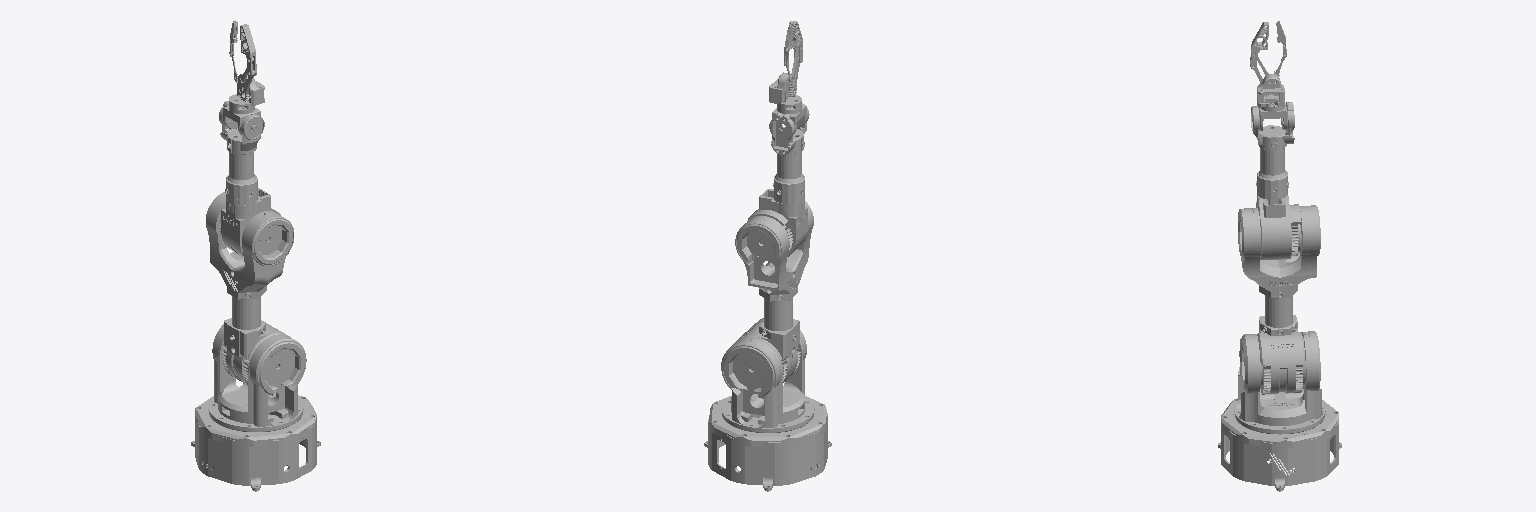
robot.urdf — kauda:
<?xml version="1.0" ?>
<!-- =================================================================================== -->
<!-- |    This document was autogenerated by xacro from [local-path]/marsrws/src/kauda/urdf/kauda.xacro | -->
<!-- |    EDITING THIS FILE BY HAND IS NOT RECOMMENDED                                 | -->
<!-- =================================================================================== -->
<robot name="kauda">
    <link name="world" />
    <link name="base_link" />
    <joint name="world_joint" type="fixed">
        <parent link="world" />
        <child link="base_link" />
        <dynamics damping="10.0" friction="1.0" />
    </joint>
    <link name="base_footprint">
        <inertial>
            <origin rpy="0 0 0" xyz="-0.00530925790576836 -3.94116071453926E-06 -0.018307245361305" />
            <mass value="0.377109058292487" />
            <inertia ixx="0.00107088440434545" ixy="1.10905798168356E-07" ixz="1.14163831904201E-05" iyy="0.00116271156830369" iyz="-9.05276896773614E-08" izz="0.00201984908828289" />
        </inertial>
        <visual>
            <origin rpy="0 0 0" xyz="0 0 0" />
            <geometry>
                <mesh filename="package://kauda/meshes/base_footprint.STL" />
            </geometry>
            <material name="">
                <color rgba="0.752941176470588 0.752941176470588 0.752941176470588 1" />
            </material>
        </visual>
        <collision>
            <origin rpy="0 0 0" xyz="0 0 0" />
            <geometry>
                <mesh filename="package://kauda/meshes/base_footprint.STL" />
            </geometry>
        </collision>
    </link>
    <joint name="base_joint" type="fixed">
        <parent link="base_link" />
        <child link="base_footprint" />
        <dynamics damping="10.0" friction="1.0" />
    </joint>
    <link name="link1">
        <inertial>
            <origin rpy="0 0 0" xyz="0.00229721462998489 -0.000230609851214751 0.0482498832031781" />
            <mass value="0.470486507419155" />
            <inertia ixx="0.00109023137916716" ixy="1.48462873070982E-05" ixz="-3.51550938929572E-05" iyy="0.000963399988424884" iyz="5.36500924620431E-06" izz="0.000851399422239088" />
        </inertial>
        <visual>
            <origin rpy="0 0 0" xyz="0 0 0" />
            <geometry>
                <mesh filename="package://kauda/meshes/link1.STL" />
            </geometry>
            <material name="">
                <color rgba="0.752941176470588 0.752941176470588 0.752941176470588 1" />
            </material>
        </visual>
        <collision>
            <origin rpy="0 0 0" xyz="0 0 0" />
            <geometry>
                <mesh filename="package://kauda/meshes/link1.STL" />
            </geometry>
        </collision>
    </link>
    <joint name="joint1" type="revolute">
        <origin rpy="0 0 0" xyz="0 0 0" />
        <parent link="base_footprint" />
        <child link="link1" />
        <axis xyz="0 0 -1" />
        <limit effort="0" lower="-1.5708" upper="1.5708" velocity="0" />
    </joint>
    <link name="link2">
        <inertial>
            <origin rpy="0 0 0" xyz="-0.010018047532452 -0.0032833462210182 0.0861794590904751" />
            <mass value="0.597764887805913" />
            <inertia ixx="0.000811203102330621" ixy="3.84670753886074E-06" ixz="-2.39198660268358E-06" iyy="0.000739547758043914" iyz="-7.87293376002064E-06" izz="0.000616552622984094" />
        </inertial>
        <visual>
            <origin rpy="0 0 0" xyz="0 0 0" />
            <geometry>
                <mesh filename="package://kauda/meshes/link2.STL" />
            </geometry>
            <material name="">
                <color rgba="0.752941176470588 0.752941176470588 0.752941176470588 1" />
            </material>
        </visual>
        <collision>
            <origin rpy="0 0 0" xyz="0 0 0" />
            <geometry>
                <mesh filename="package://kauda/meshes/link2.STL" />
            </geometry>
        </collision>
    </link>
    <joint name="joint2" type="revolute">
        <origin rpy="0 0 0" xyz="0.0059659 0.00063891 0.08615" />
        <parent link="link1" />
        <child link="link2" />
        <axis xyz="-0.10648 0.99431 0" />
        <limit effort="0" lower="-1.5708" upper="1.5708" velocity="0" />
    </joint>
    <link name="link3">
        <inertial>
            <origin rpy="0 0 0" xyz="-0.0169011018631835 0.0380839207520736 0.0116356442109422" />
            <mass value="0.268857504457809" />
            <inertia ixx="0.000197411173994711" ixy="-5.06366609444836E-06" ixz="1.24082418327179E-05" iyy="0.000232360787237225" iyz="-2.627629940429E-07" izz="0.0001779803445574" />
        </inertial>
        <visual>
            <origin rpy="0 0 0" xyz="0 0 0" />
            <geometry>
                <mesh filename="package://kauda/meshes/link3.STL" />
            </geometry>
            <material name="">
                <color rgba="0.752941176470588 0.752941176470588 0.752941176470588 1" />
            </material>
        </visual>
        <collision>
            <origin rpy="0 0 0" xyz="0 0 0" />
            <geometry>
                <mesh filename="package://kauda/meshes/link3.STL" />
            </geometry>
        </collision>
    </link>
    <joint name="joint3" type="revolute">
        <origin rpy="0 0 0" xyz="-0.0014911 -0.042422 0.19664" />
        <parent link="link2" />
        <child link="link3" />
        <axis xyz="-0.10648 0.99431 0" />
        <limit effort="0" lower="-1.5708" upper="1.5708" velocity="0" />
    </joint>
    <link name="link4">
        <inertial>
            <origin rpy="0 0 0" xyz="0.000127731718039426 -0.000925010788561428 0.0895037641109863" />
            <mass value="0.0365664078243449" />
            <inertia ixx="2.72405728800808E-05" ixy="9.0441219157387E-07" ixz="-8.85652493454715E-08" iyy="1.88817780992797E-05" iyz="8.92970457314301E-07" izz="1.79057599567989E-05" />
        </inertial>
        <visual>
            <origin rpy="0 0 0" xyz="0 0 0" />
            <geometry>
                <mesh filename="package://kauda/meshes/link4.STL" />
            </geometry>
            <material name="">
                <color rgba="0.752941176470588 0.752941176470588 0.752941176470588 1" />
            </material>
        </visual>
        <collision>
            <origin rpy="0 0 0" xyz="0 0 0" />
            <geometry>
                <mesh filename="package://kauda/meshes/link4.STL" />
            </geometry>
        </collision>
    </link>
    <joint name="joint4" type="revolute">
        <origin rpy="0 0 0" xyz="-0.033191 0.031215 0.05663" />
        <parent link="link3" />
        <child link="link4" />
        <axis xyz="0 0 1" />
        <limit effort="0" lower="-1.5708" upper="1.5708" velocity="0" />
    </joint>
    <link name="link5">
        <inertial>
            <origin rpy="0 0 0" xyz="-0.00237290651034774 0.0221320248227368 0.00766620022500086" />
            <mass value="0.0249727462641256" />
            <inertia ixx="6.86232658161813E-06" ixy="2.09116249750625E-07" ixz="-1.55862695274545E-08" iyy="4.92498141280146E-06" iyz="1.4679899460208E-07" izz="7.19810856236306E-06" />
        </inertial>
        <visual>
            <origin rpy="0 0 0" xyz="0 0 0" />
            <geometry>
                <mesh filename="package://kauda/meshes/link5.STL" />
            </geometry>
            <material name="">
                <color rgba="0.752941176470588 0.752941176470588 0.752941176470588 1" />
            </material>
        </visual>
        <collision>
            <origin rpy="0 0 0" xyz="0 0 0" />
            <geometry>
                <mesh filename="package://kauda/meshes/link5.STL" />
            </geometry>
        </collision>
    </link>
    <joint name="joint5" type="revolute">
        <origin rpy="0 0 0" xyz="0.0023959 -0.022372 0.1184" />
        <parent link="link4" />
        <child link="link5" />
        <axis xyz="-0.10648 0.99431 0" />
        <limit effort="0" lower="-1.5708" upper="1.5708" velocity="0" />
    </joint>
    <link name="end_effector">
        <inertial>
            <origin rpy="0 0 0" xyz="-0.0734713584909865 -0.00431769797661067 -0.00391571033132621" />
            <mass value="0.0303740016851369" />
            <inertia ixx="4.96476260358216E-06" ixy="-2.13950973868504E-07" ixz="1.15712582705699E-07" iyy="4.59166886150046E-06" iyz="-1.8601356748186E-07" izz="6.06172170169276E-06" />
        </inertial>
        <visual>
            <origin rpy="0 0 0" xyz="0 0 0" />
            <geometry>
                <mesh filename="package://kauda/meshes/end_effector.STL" />
            </geometry>
            <material name="">
                <color rgba="0.752941176470588 0.752941176470588 0.752941176470588 1" />
            </material>
        </visual>
        <collision>
            <origin rpy="0 0 0" xyz="0 0 0" />
            <geometry>
                <mesh filename="package://kauda/meshes/end_effector.STL" />
            </geometry>
        </collision>
    </link>
    <joint name="end_effector_joint" type="fixed">
        <origin rpy="0.0 -1.5708 0.0" xyz="-0.0014444 0.021426 0.12893" />
        <parent link="link5" />
        <child link="end_effector" />
        <axis xyz="0 0 0" />
    </joint>
    <link name="finger">
        <inertial>
            <origin rpy="0 0 0" xyz=" -0.00391571033132621 -0.00431769797661067 -0.0734713584909865" />
            <mass value="0.0103740016851369" />
            <inertia ixx="0.00024166666666666667" ixy="0.0" ixz="0.0" iyy="0.00024166666666666667" iyz="0.0" izz="0.00024166666666666667" />
        </inertial>
        <visual>
            <origin rpy="0 0 0" xyz="0 0 0" />
            <geometry>
                <mesh filename="package://kauda/meshes/finger.stl" />
            </geometry>
            <material name="">
                <color rgba="0.752941176470588 0.752941176470588 0.752941176470588 1" />
            </material>
        </visual>
        <collision>
            <origin rpy="0 0 0" xyz="0 0 0" />
            <geometry>
                <mesh filename="package://kauda/meshes/finger.stl" />
            </geometry>
        </collision>
    </link>
    <joint name="joint6" type="prismatic">
        <axis xyz="0 1 0" />
        <origin rpy="0 0 0" xyz=" 0.021 0.021426 -0.03893" />
        <limit effort="1.0" lower="-0.011" upper="0.011" velocity="0.5" />
        <parent link="end_effector" />
        <child link="finger" />
    </joint>
    <transmission name="trans_joint1">
        <type>transmission_interface/SimpleTransmission</type>
        <joint name="joint1">
            <hardwareInterface>hardware_interface/EffortJointInterface</hardwareInterface>
        </joint>
        <actuator name="joint1_motor">
            <hardwareInterface>hardware_interface/EffortJointInterface</hardwareInterface>
            <mechanicalReduction>1</mechanicalReduction>
        </actuator>
    </transmission>
    <transmission name="trans_joint2">
        <type>transmission_interface/SimpleTransmission</type>
        <joint name="joint2">
            <hardwareInterface>hardware_interface/EffortJointInterface</hardwareInterface>
        </joint>
        <actuator name="joint2_motor">
            <hardwareInterface>hardware_interface/EffortJointInterface</hardwareInterface>
            <mechanicalReduction>1</mechanicalReduction>
        </actuator>
    </transmission>
    <transmission name="trans_joint3">
        <type>transmission_interface/SimpleTransmission</type>
        <joint name="joint3">
            <hardwareInterface>hardware_interface/EffortJointInterface</hardwareInterface>
        </joint>
        <actuator name="joint3_motor">
            <hardwareInterface>hardware_interface/EffortJointInterface</hardwareInterface>
            <mechanicalReduction>1</mechanicalReduction>
        </actuator>
    </transmission>
    <transmission name="trans_joint4">
        <type>transmission_interface/SimpleTransmission</type>
        <joint name="joint4">
            <hardwareInterface>hardware_interface/EffortJointInterface</hardwareInterface>
        </joint>
        <actuator name="joint4_motor">
            <hardwareInterface>hardware_interface/EffortJointInterface</hardwareInterface>
            <mechanicalReduction>1</mechanicalReduction>
        </actuator>
    </transmission>
    <transmission name="trans_joint5">
        <type>transmission_interface/SimpleTransmission</type>
        <joint name="joint5">
            <hardwareInterface>hardware_interface/EffortJointInterface</hardwareInterface>
        </joint>
        <actuator name="joint5_motor">
            <hardwareInterface>hardware_interface/EffortJointInterface</hardwareInterface>
            <mechanicalReduction>1</mechanicalReduction>
        </actuator>
    </transmission>
    <transmission name="trans_joint6">
        <type>transmission_interface/SimpleTransmission</type>
        <joint name="joint6">
            <hardwareInterface>hardware_interface/EffortJointInterface</hardwareInterface>
        </joint>
        <actuator name="joint6_motor">
            <hardwareInterface>hardware_interface/EffortJointInterface</hardwareInterface>
            <mechanicalReduction>1</mechanicalReduction>
        </actuator>
    </transmission>
    <gazebo>
        <plugin name="gazebo_ros_control">
            <robotNamespace>/</robotNamespace>
        </plugin>
    </gazebo>
</robot>

--- What the picture shows (computed from the rendered views, not written in the file) ---
3 views of the same robot in one strip: view 1: azimuth 30°, elevation 25°; view 2: azimuth 150°, elevation 25°; view 3: azimuth 270°, elevation 25° (orthographic).
Model kauda with 10 links and 9 joints (5 revolute, 1 prismatic, 3 fixed), rooted at world, posed all joints at 0.
Visible links, largest first — view 1: link2, base_footprint, link1, link3, link4, end_effector; view 2: base_footprint, link2, link1, link3, link4, end_effector; view 3: link2, base_footprint, link1, link3, link4, end_effector.
Boxes of the visible links, x1,y1,x2,y2 form: link2: (206,192,293,384); base_footprint: (191,395,320,491); link1: (209,324,306,431); link3: (219,174,280,256); link4: (219,101,264,179); end_effector: (229,24,264,111); base_footprint: (704,396,831,491); link2: (734,201,813,388); link1: (721,318,813,432); link3: (747,174,807,256); link4: (769,103,809,178); end_effector: (769,21,802,112); link2: (1238,205,1320,394); base_footprint: (1218,398,1341,491); link1: (1235,331,1324,434); link3: (1256,170,1301,259); link4: (1251,102,1294,189); end_effector: (1250,22,1284,109).
Bounding box of the posed robot: 0.1874 × 0.1788 × 0.6798 m (x, y, z).
Meshes: 8 distinct files referenced, 8 mesh visuals loaded (8 binary STL).
